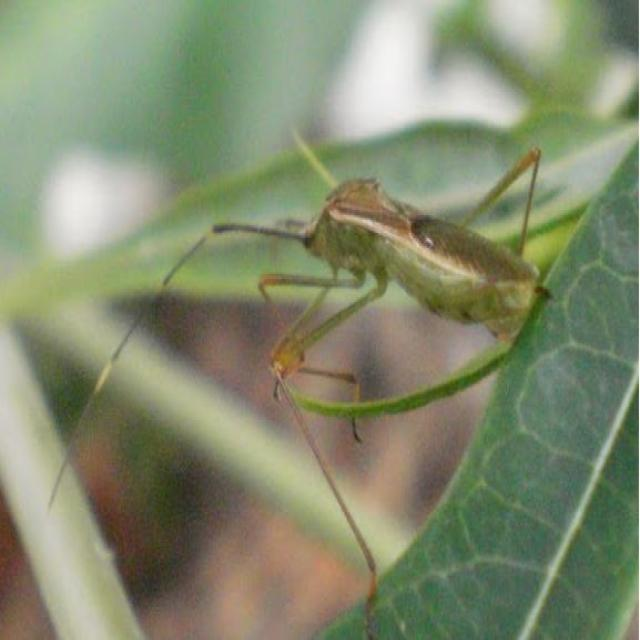walang sangit pada tanaman padi: (46, 122, 573, 564)
